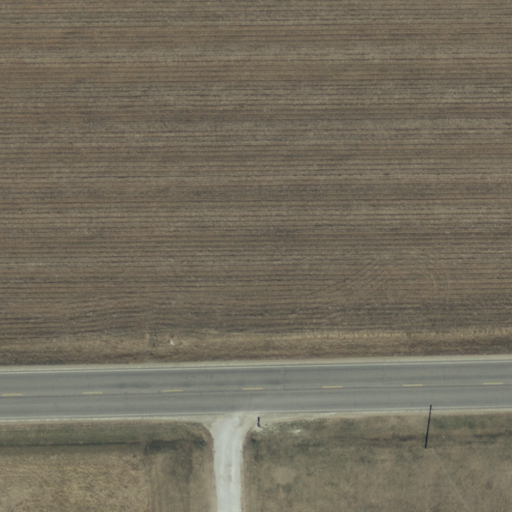DT: (411, 435, 438, 457)
